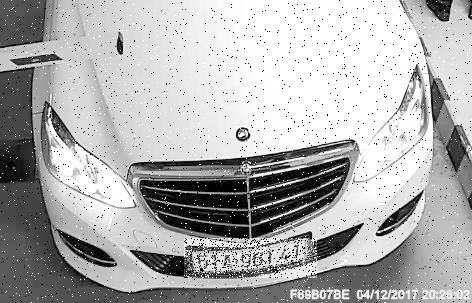License-plate: (185, 239, 318, 279)
